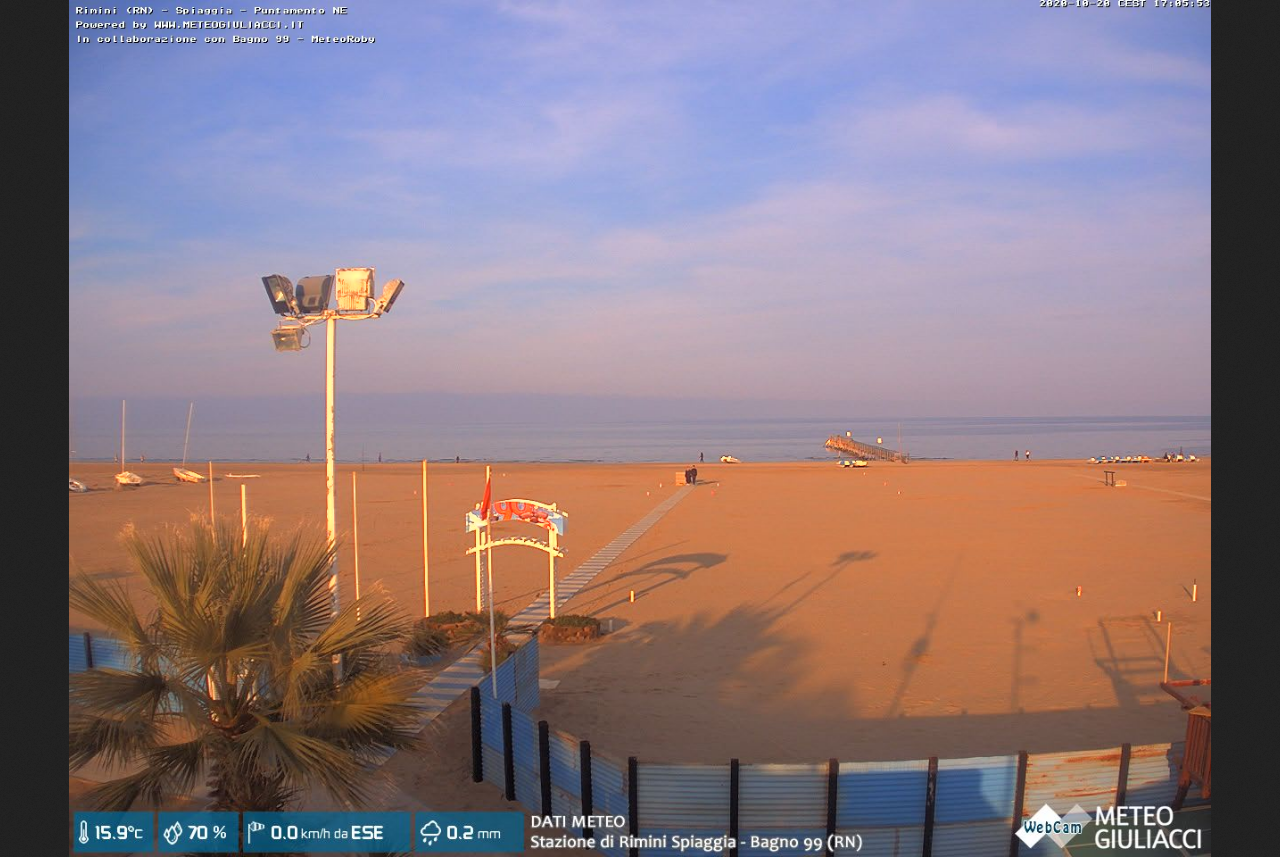no: (475, 466, 500, 527)
